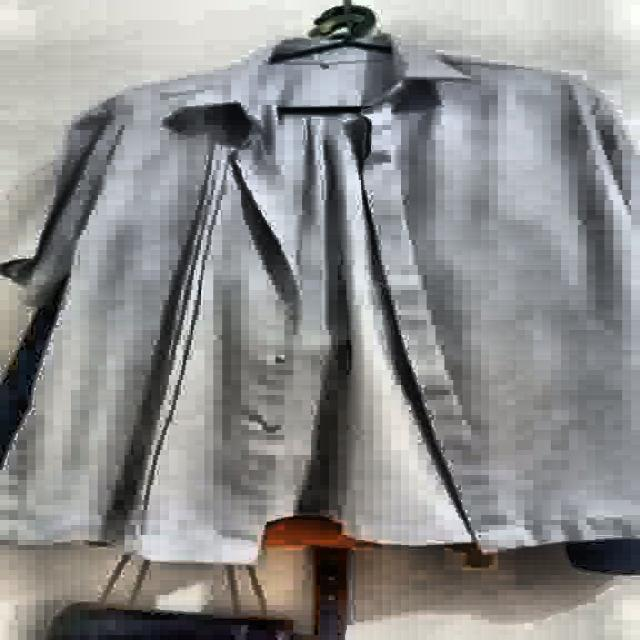clothes: (2, 11, 636, 574)
